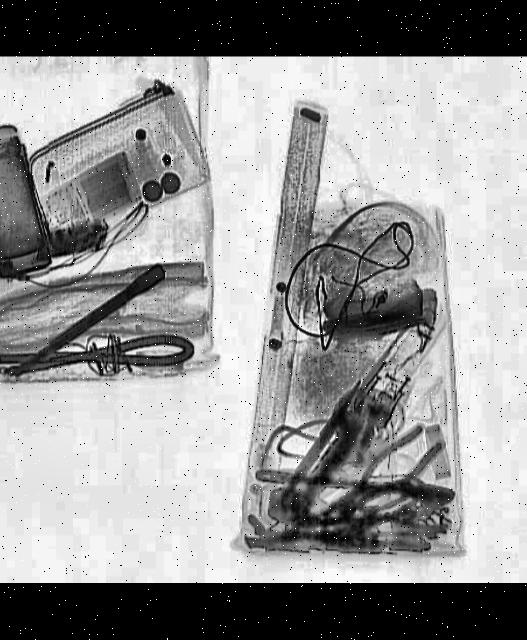Pliers: (316, 417, 453, 536)
Wrench: (253, 462, 456, 506)
